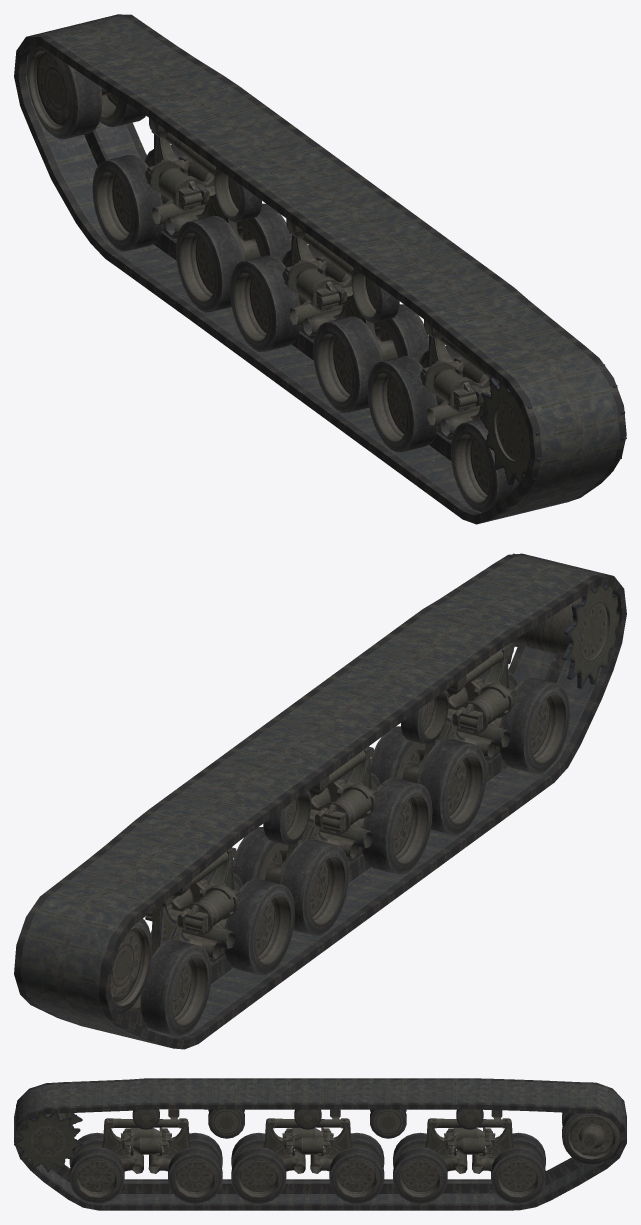
The model's file is Fury_TrackRight.fbx.
The picture shows the model from 3 angles, top to bottom: view 1: azimuth 30°, elevation 25°; view 2: azimuth 150°, elevation 25°; view 3: azimuth 270°, elevation 25°; orthographic projection. The views are drawn at different scales.
Visible parts, largest first — view 1: american\A104_M4A3E8A\normal\l\Chassis.pri~6~3, american\A104_M4A3E8A\normal\l\Chassis.pri~6~2; view 2: american\A104_M4A3E8A\normal\l\Chassis.pri~6~3, american\A104_M4A3E8A\normal\l\Chassis.pri~6~2; view 3: american\A104_M4A3E8A\normal\l\Chassis.pri~6~2, american\A104_M4A3E8A\normal\l\Chassis.pri~6~3.
Part boxes in pixels (x1,y1,x2,y2): american\A104_M4A3E8A\normal\l\Chassis.pri~6~3: (14,14,626,524); american\A104_M4A3E8A\normal\l\Chassis.pri~6~2: (27,45,626,512); american\A104_M4A3E8A\normal\l\Chassis.pri~6~3: (14,553,626,1049); american\A104_M4A3E8A\normal\l\Chassis.pri~6~2: (110,553,619,1035); american\A104_M4A3E8A\normal\l\Chassis.pri~6~2: (14,1085,621,1203); american\A104_M4A3E8A\normal\l\Chassis.pri~6~3: (14,1078,626,1210).
Size of the model in its own units: 0.603 by 1.09 by 5.69.
